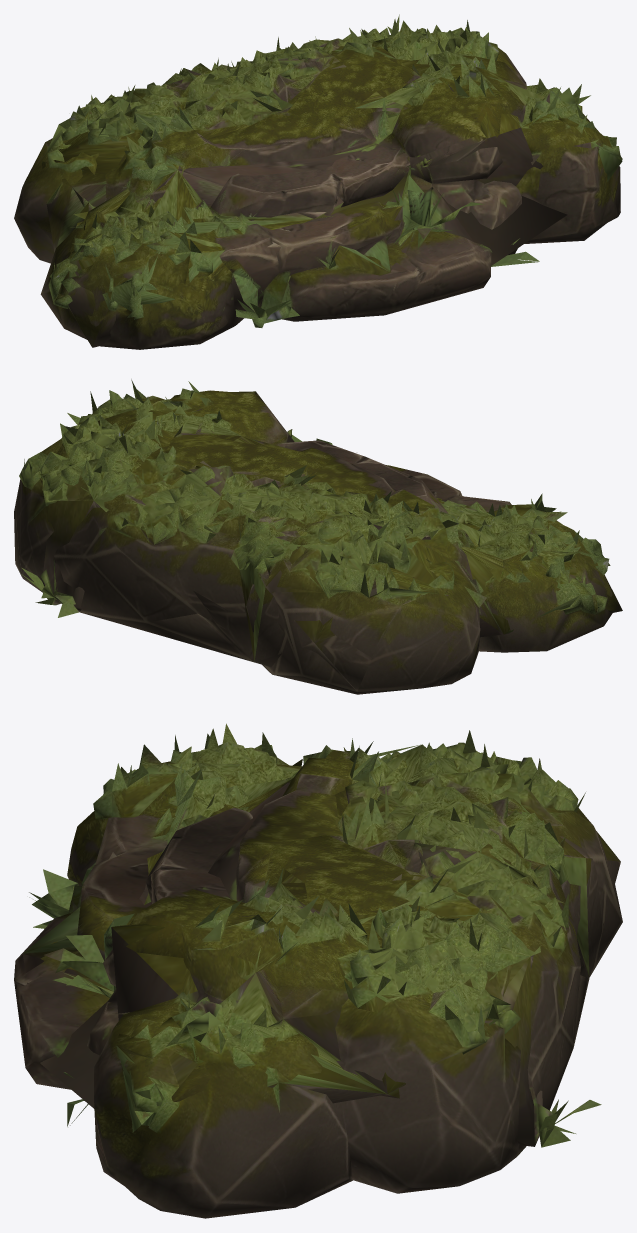
The model's file is JGH_LowOutcrop_A.fbx.
The picture shows the model from 3 angles, top to bottom: view 1: azimuth 30°, elevation 25°; view 2: azimuth 150°, elevation 25°; view 3: azimuth 270°, elevation 25°; orthographic projection. The views are drawn at different scales.
Parts seen in each view (by area): view 1: JGH_LowOutcrop_A, JGH_LowOutcrop_A_far; view 2: JGH_LowOutcrop_A, JGH_LowOutcrop_A_far; view 3: JGH_LowOutcrop_A, JGH_LowOutcrop_A_far.
Boxes of the visible parts, left/top/right/bottom form: JGH_LowOutcrop_A: left=14, top=14, right=622, bottom=349; JGH_LowOutcrop_A_far: left=42, top=27, right=622, bottom=347; JGH_LowOutcrop_A: left=14, top=379, right=612, bottom=694; JGH_LowOutcrop_A_far: left=21, top=390, right=622, bottom=691; JGH_LowOutcrop_A: left=14, top=723, right=622, bottom=1218; JGH_LowOutcrop_A_far: left=22, top=743, right=620, bottom=1146.
Size of the model in its own units: 380 by 100 by 247.
Materials: 2 (2 with a texture image).
